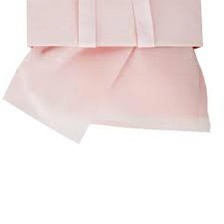book: (19, 0, 207, 54)
tissue: (0, 41, 215, 149)
